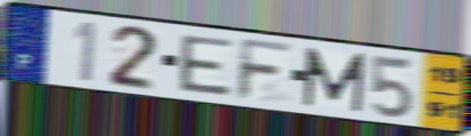1: (72, 20, 98, 83)
2: (107, 24, 161, 93)
5: (368, 52, 418, 120)
E: (178, 33, 235, 99)
F: (233, 36, 297, 104)
M: (301, 45, 368, 114)
